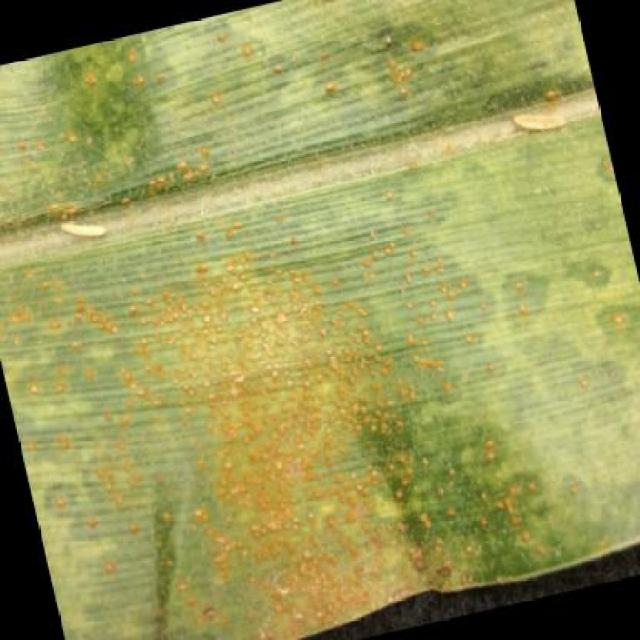Corn_Rust: (98, 80, 591, 591)
